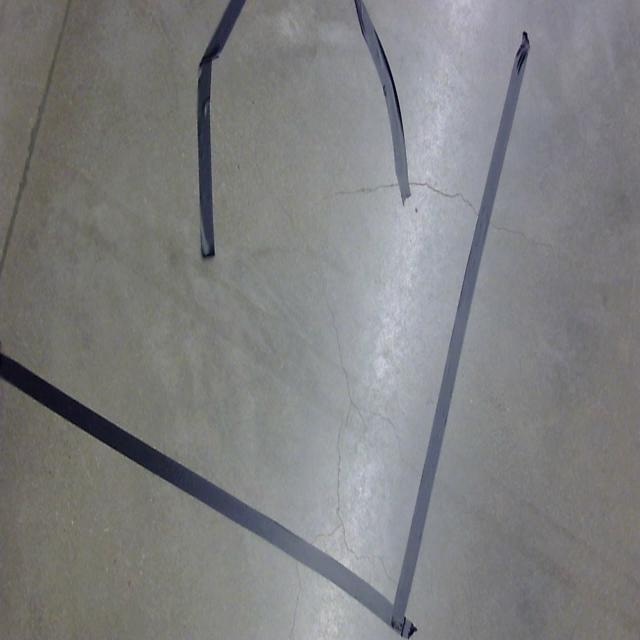tape: (0, 303, 426, 640), (384, 27, 534, 640), (192, 0, 414, 270)
